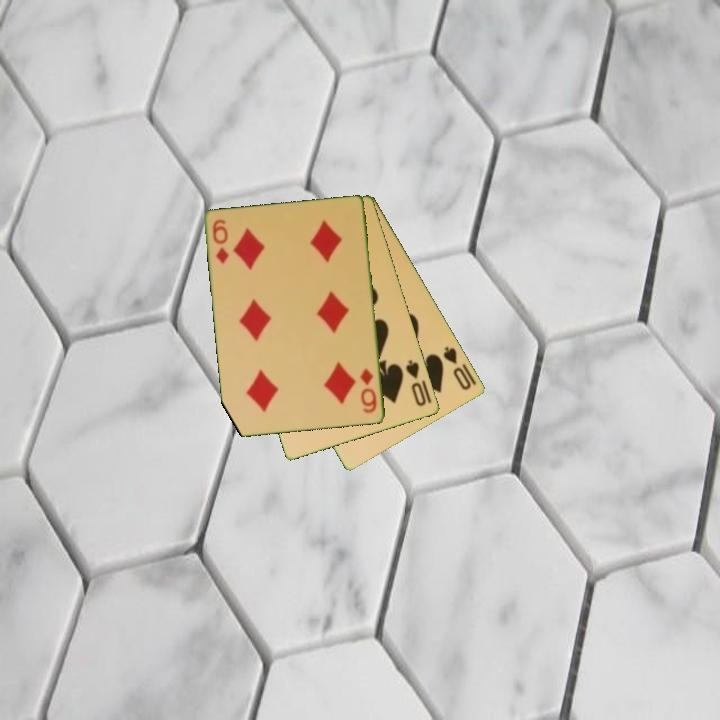10s: (440, 343, 475, 393), (402, 356, 429, 409)
6d: (357, 365, 380, 416), (209, 216, 232, 267)
